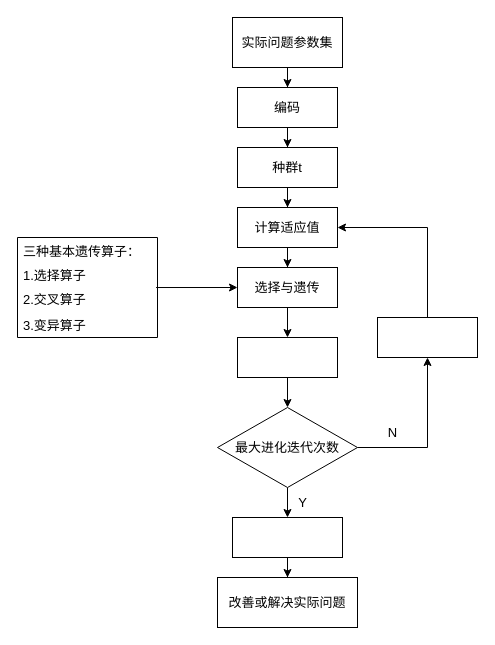
The diagram is 495 pixels wide and 645 high, and some of its shapes have lost their labels. Each missing label, with the box of its shape:
种群t+1: (236, 336, 338, 378)
种群t<--种群t+1: (376, 316, 478, 358)
解码: (232, 516, 342, 558)
